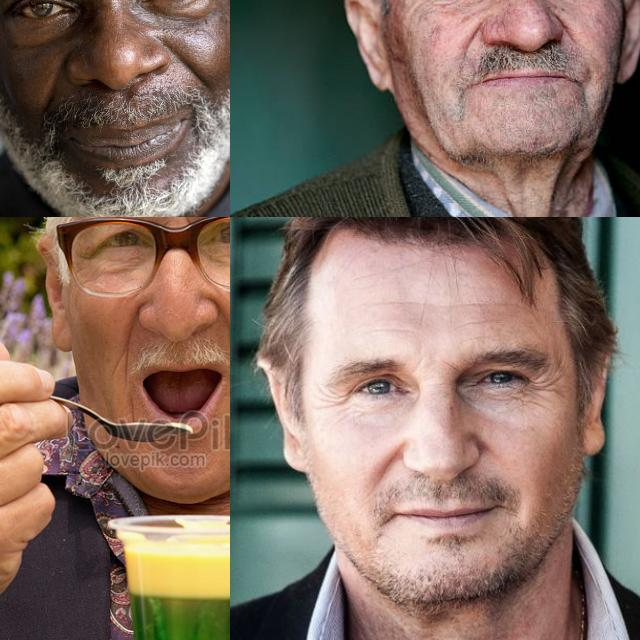crows_feet: (521, 368, 551, 400), (317, 384, 348, 412)
forehead: (382, 294, 458, 312), (468, 294, 522, 312), (366, 323, 418, 339), (460, 316, 496, 328)
frown_line: (442, 356, 464, 372)
gummy_smile: (116, 307, 146, 361), (171, 42, 209, 82), (41, 62, 67, 108), (376, 438, 398, 482), (554, 11, 578, 45), (462, 20, 483, 56), (218, 309, 230, 362)
